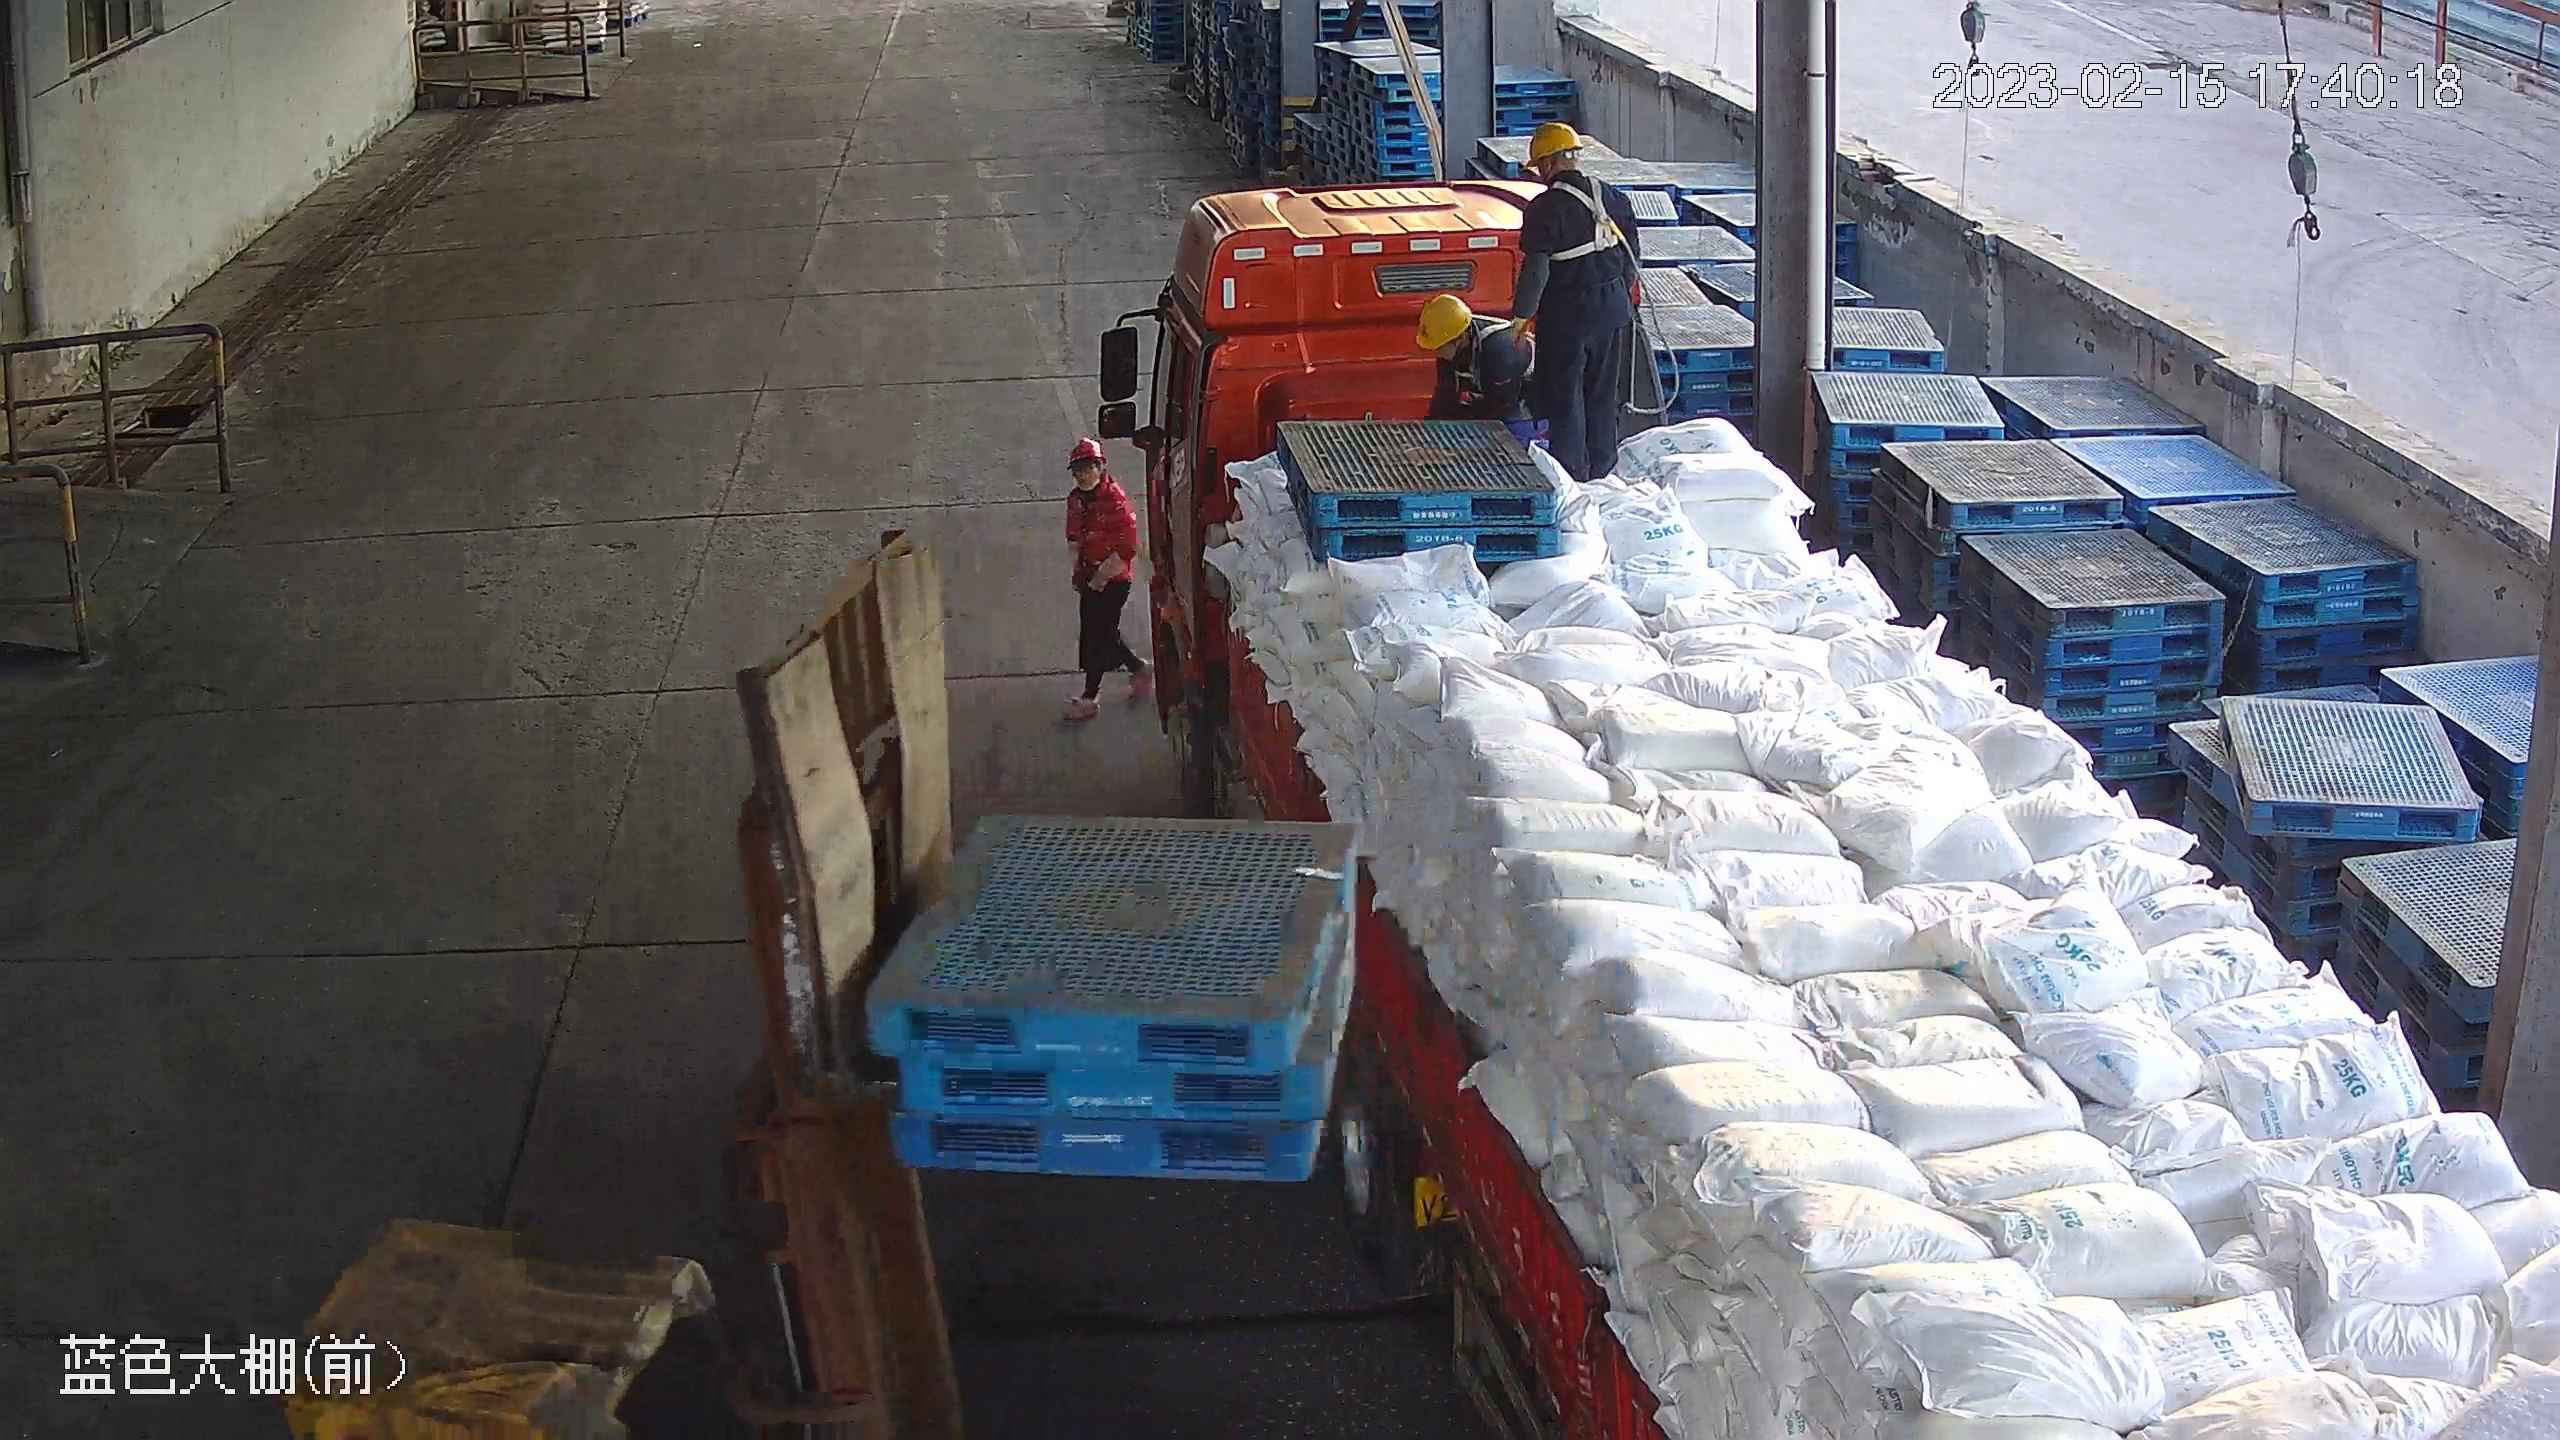belt: (1543, 175, 1624, 257), (1467, 312, 1538, 383)
head: (1518, 120, 1637, 230), (1411, 292, 1519, 370), (1065, 435, 1126, 511)
helmet: (1413, 293, 1473, 350), (1524, 121, 1584, 165), (1065, 437, 1108, 467)
people: (1514, 119, 1642, 481), (1051, 436, 1154, 725)
truck: (1146, 177, 2560, 1440)
